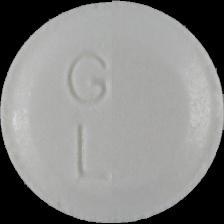0781-1078: (0, 0, 224, 224)
